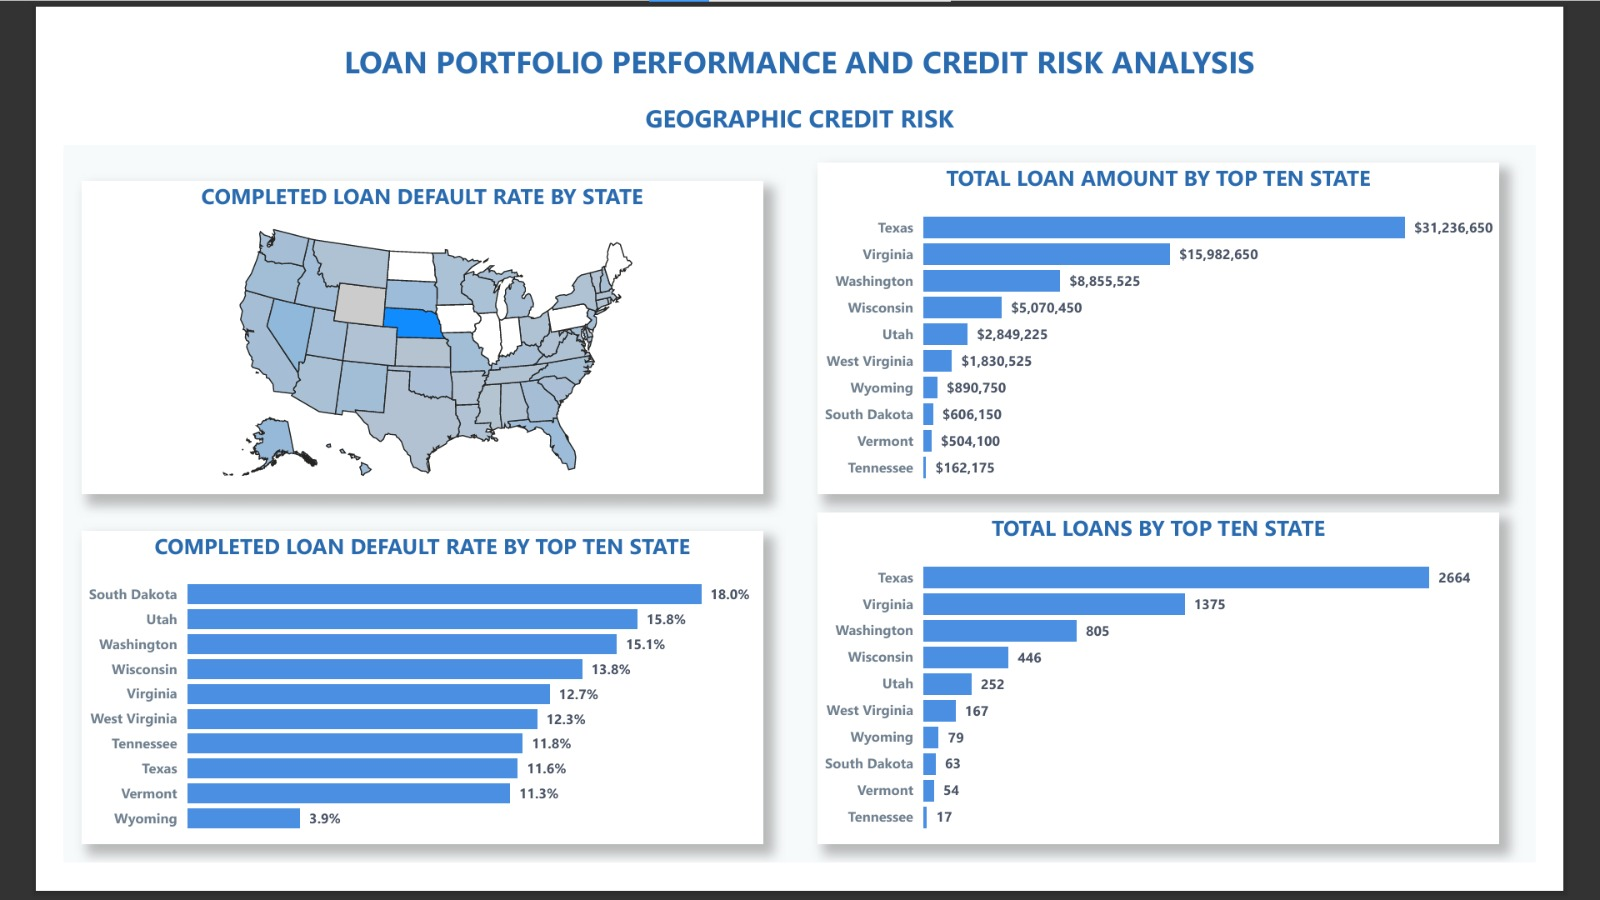

The page's visual inventory and layout, read from the dashboard file:
{"tool":"powerbi","page":{"name":"Page 4","canvas":[1280,720],"ordinal":3},"visuals":[{"type":"shapeMap","title":"COMPLETED LOAN DEFAULT RATE BY STATE","fields":{"Category":["financial_loan_cleaned.State"],"Value":["_MEASURES.COMPLETED LOAN DEFAULT RATE"]},"box":[15.7,127.9,592.4,272.7],"z":0},{"type":"clusteredBarChart","title":"COMPLETED LOAN DEFAULT RATE BY TOP TEN STATE","fields":{"Y":["_MEASURES.COMPLETED LOAN DEFAULT RATE"],"Category":["financial_loan_cleaned.State"]},"box":[16,432,592,272],"z":1000},{"type":"clusteredBarChart","title":"TOTAL LOAN AMOUNT BY TOP TEN STATE","fields":{"Category":["financial_loan_cleaned.State"],"Y":["_MEASURES.TOTAL LOAN AMOUNT"]},"box":[656.3,127.9,591.2,272.7],"z":2000},{"type":"clusteredBarChart","title":"TOTAL LOANS BY TOP TEN STATE","fields":{"Y":["_MEASURES.TOTAL LOANS"],"Category":["financial_loan_cleaned.State"]},"box":[656.3,431.9,591.2,272.7],"z":3000},{"type":"textbox","box":[0,0,1280,96],"z":4000}]}

Visuals, with their boxes in screenshot pixels (x1, y1, x2, y2), scaled from the page's 1280x720 canvas onto the 1600x900 screenshot:
"COMPLETED LOAN DEFAULT RATE BY STATE" shapeMap: <bbox>20, 160, 760, 501</bbox>
"COMPLETED LOAN DEFAULT RATE BY TOP TEN STATE" clusteredBarChart: <bbox>20, 540, 760, 880</bbox>
"TOTAL LOAN AMOUNT BY TOP TEN STATE" clusteredBarChart: <bbox>820, 160, 1559, 501</bbox>
"TOTAL LOANS BY TOP TEN STATE" clusteredBarChart: <bbox>820, 540, 1559, 881</bbox>
textbox: <bbox>0, 0, 1599, 120</bbox>
